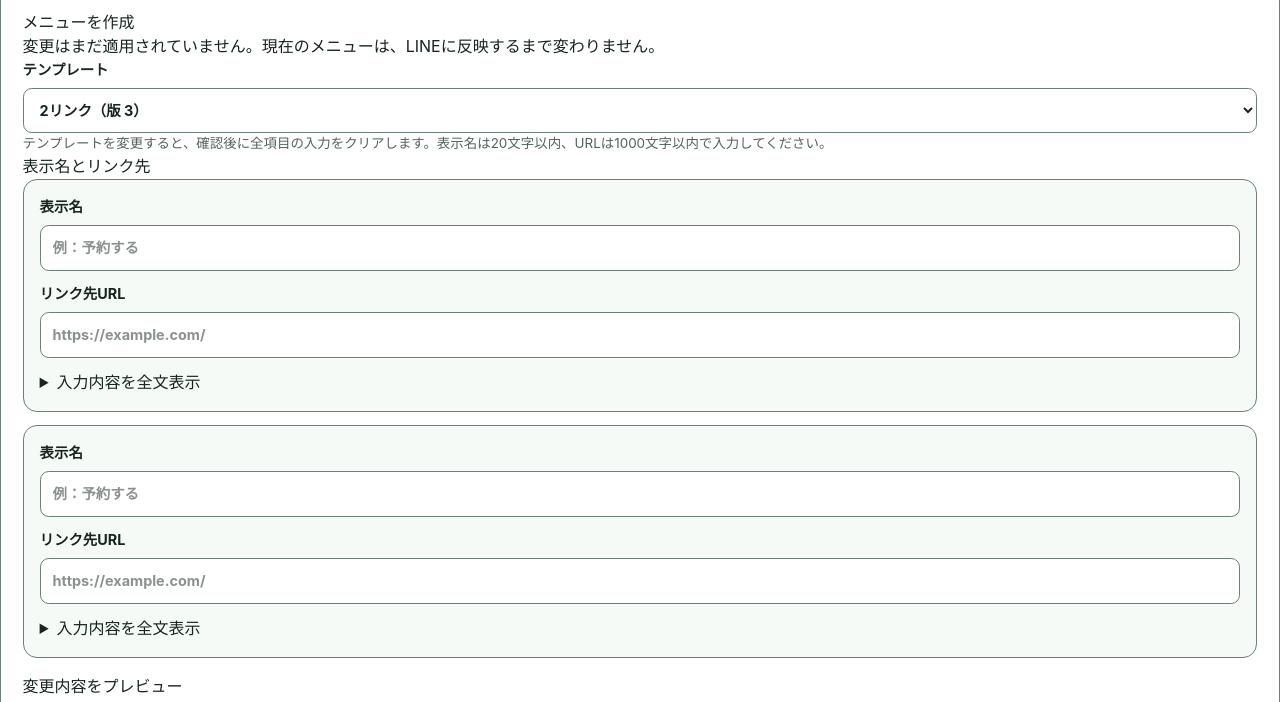
Test: RichMenuEditor › renders every built-in field and reports safe validation errors without preview
The width and height of the screenshot is (1280, 702).
In the 1st field labelled "表示名": (640, 248) [40,225,1240,271], type "案内"
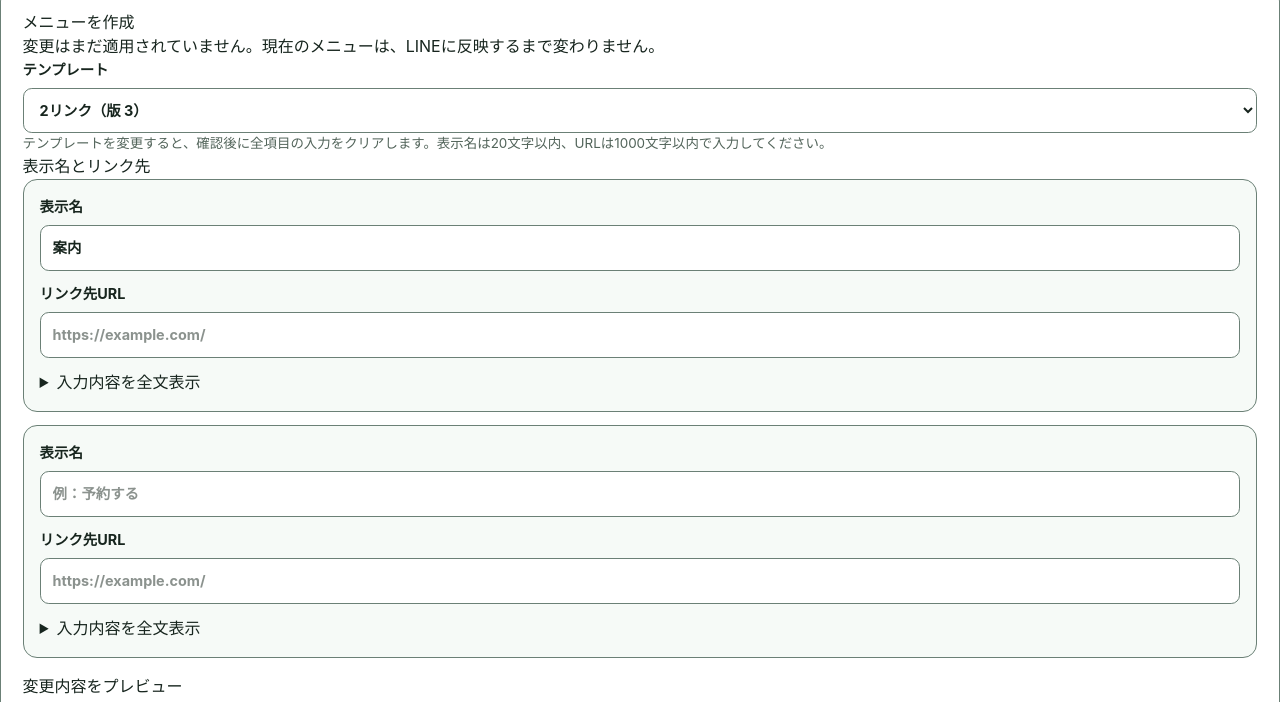
In the 1st field labelled "リンク先URL": (640, 335) [40,312,1240,358], type "http://example.com"
(page scrolled)
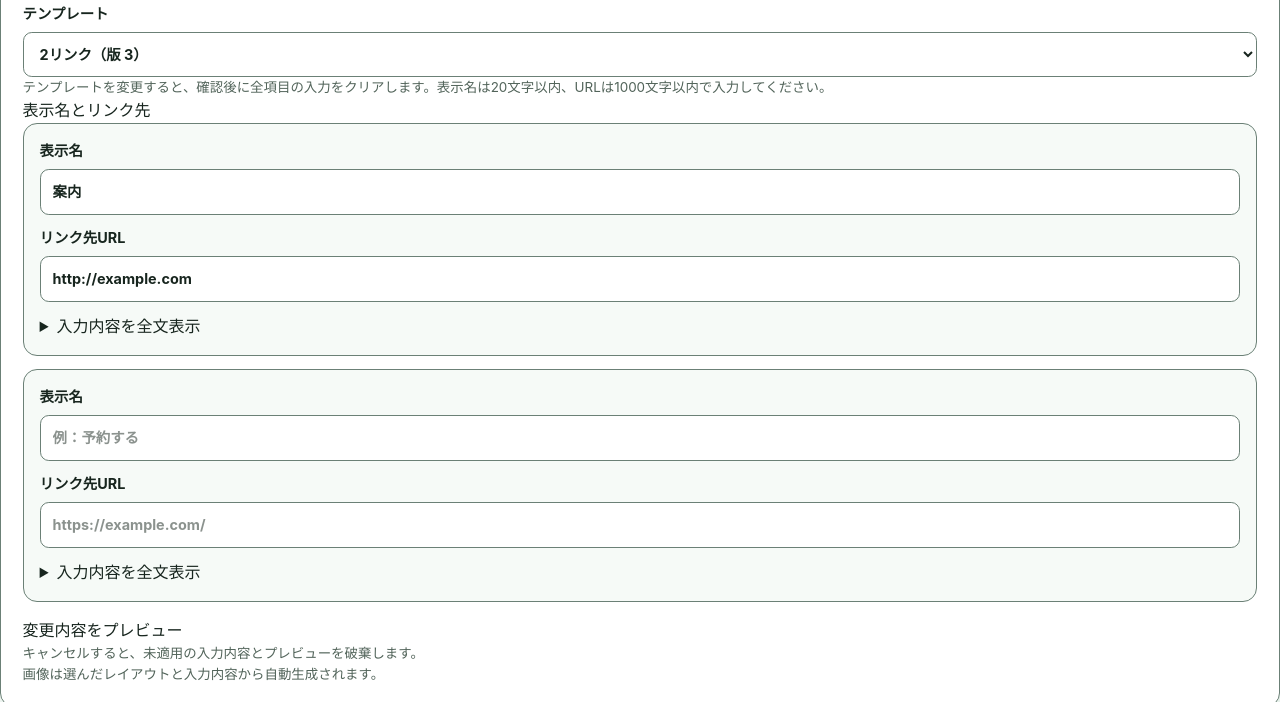
Submit the form
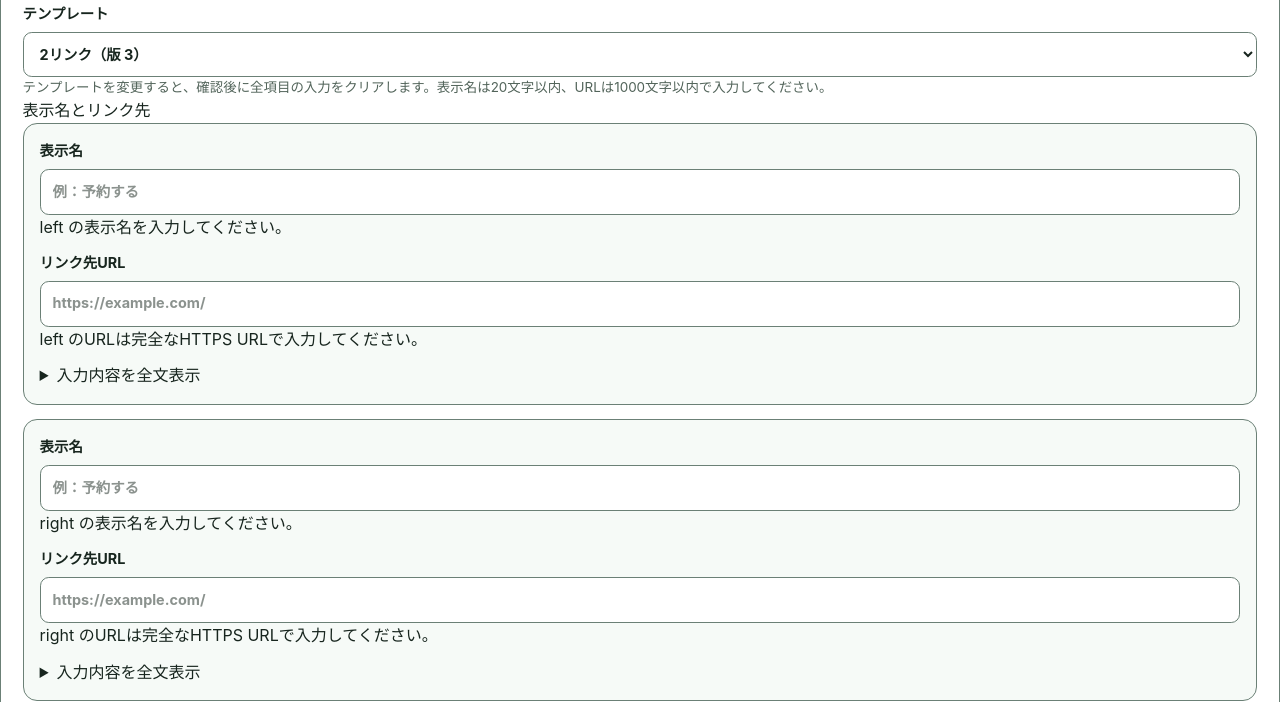
Check: the text "left のURLは完全なHTTPS URLで入力してください。" is shown, box [40,329,427,349]
Check: the text "right の表示名を入力してください。" is shown, box [40,513,302,533]
